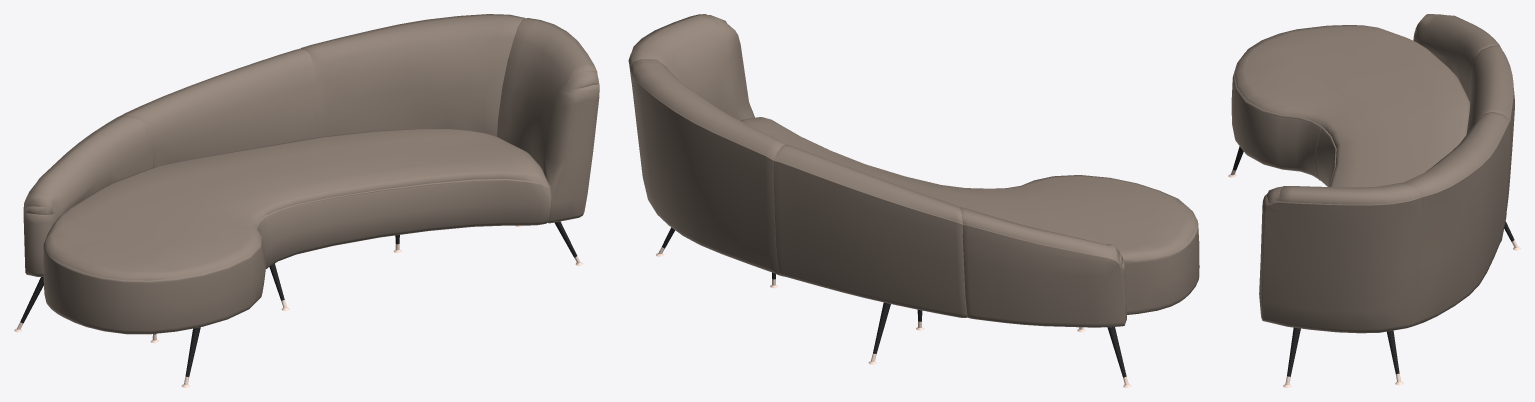
Rendered from sofa-velvet.glb.
3 views of the same model, side by side, from view 1: azimuth 30°, elevation 25°; view 2: azimuth 150°, elevation 25°; view 3: azimuth 270°, elevation 25° (orthographic). The views are drawn at different scales.
Visible parts, largest first — view 1: GlamVelvetSofa_fabric, GlamVelvetSofa_legs; view 2: GlamVelvetSofa_fabric, GlamVelvetSofa_legs; view 3: GlamVelvetSofa_fabric, GlamVelvetSofa_legs.
Boxes of the visible parts, x1,y1,x2,y2 form: GlamVelvetSofa_fabric: (23,14,599,334); GlamVelvetSofa_legs: (20,221,577,376); GlamVelvetSofa_fabric: (628,14,1199,327); GlamVelvetSofa_legs: (662,227,1126,377); GlamVelvetSofa_fabric: (1231,14,1514,333); GlamVelvetSofa_legs: (1233,146,1514,376).
Bounding box in the file's own units: 2.19 × 0.788 × 1.02.
